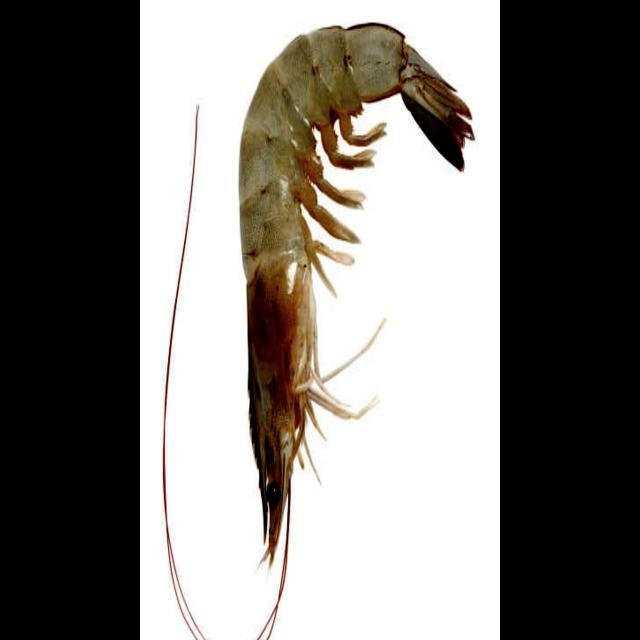shrimp: (239, 24, 472, 562)
